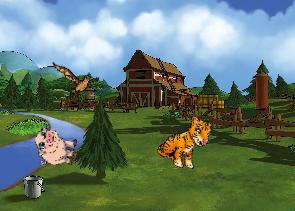eagle: (52, 62, 99, 98)
pig: (32, 125, 79, 169)
tiger: (154, 108, 215, 174)
